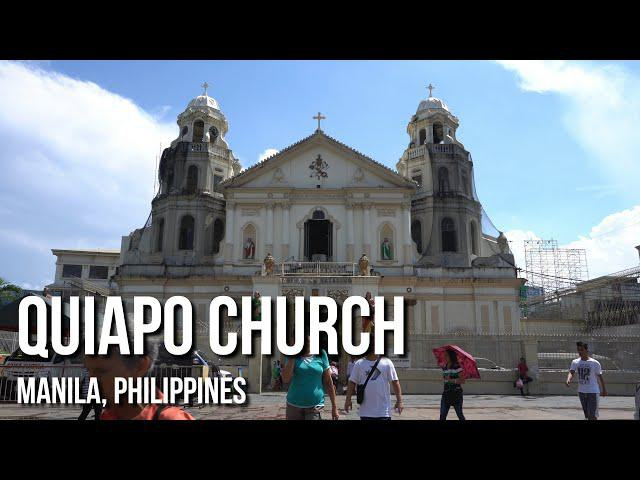quiapo_church_quiapo_manila: (103, 70, 524, 385)
